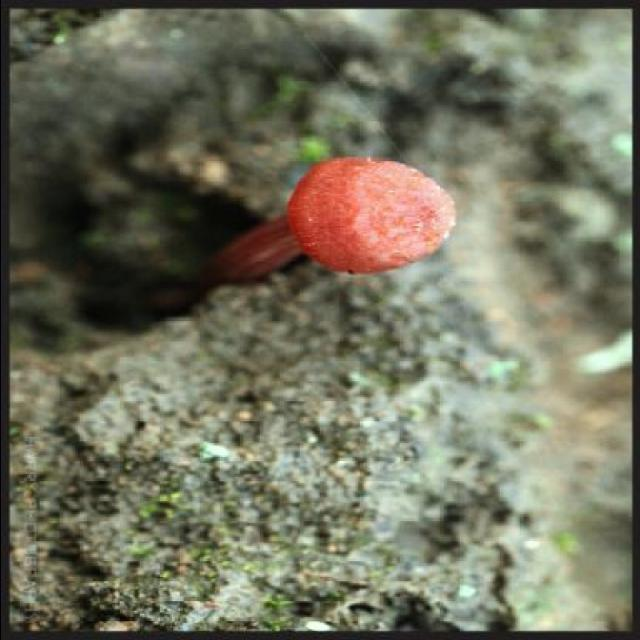Mushroom: (183, 156, 411, 274)
